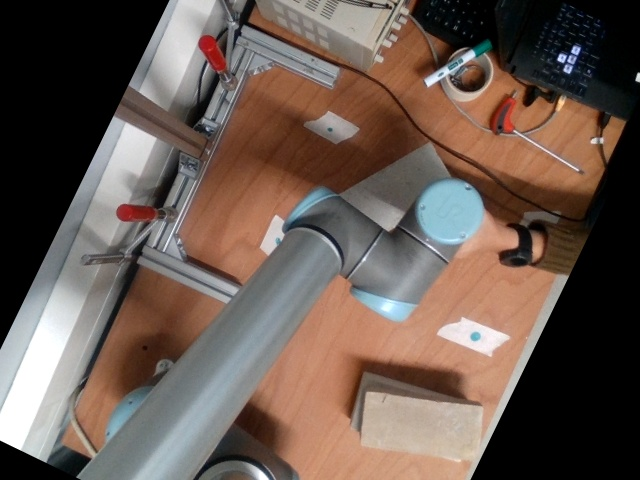brick: (361, 393, 484, 458)
